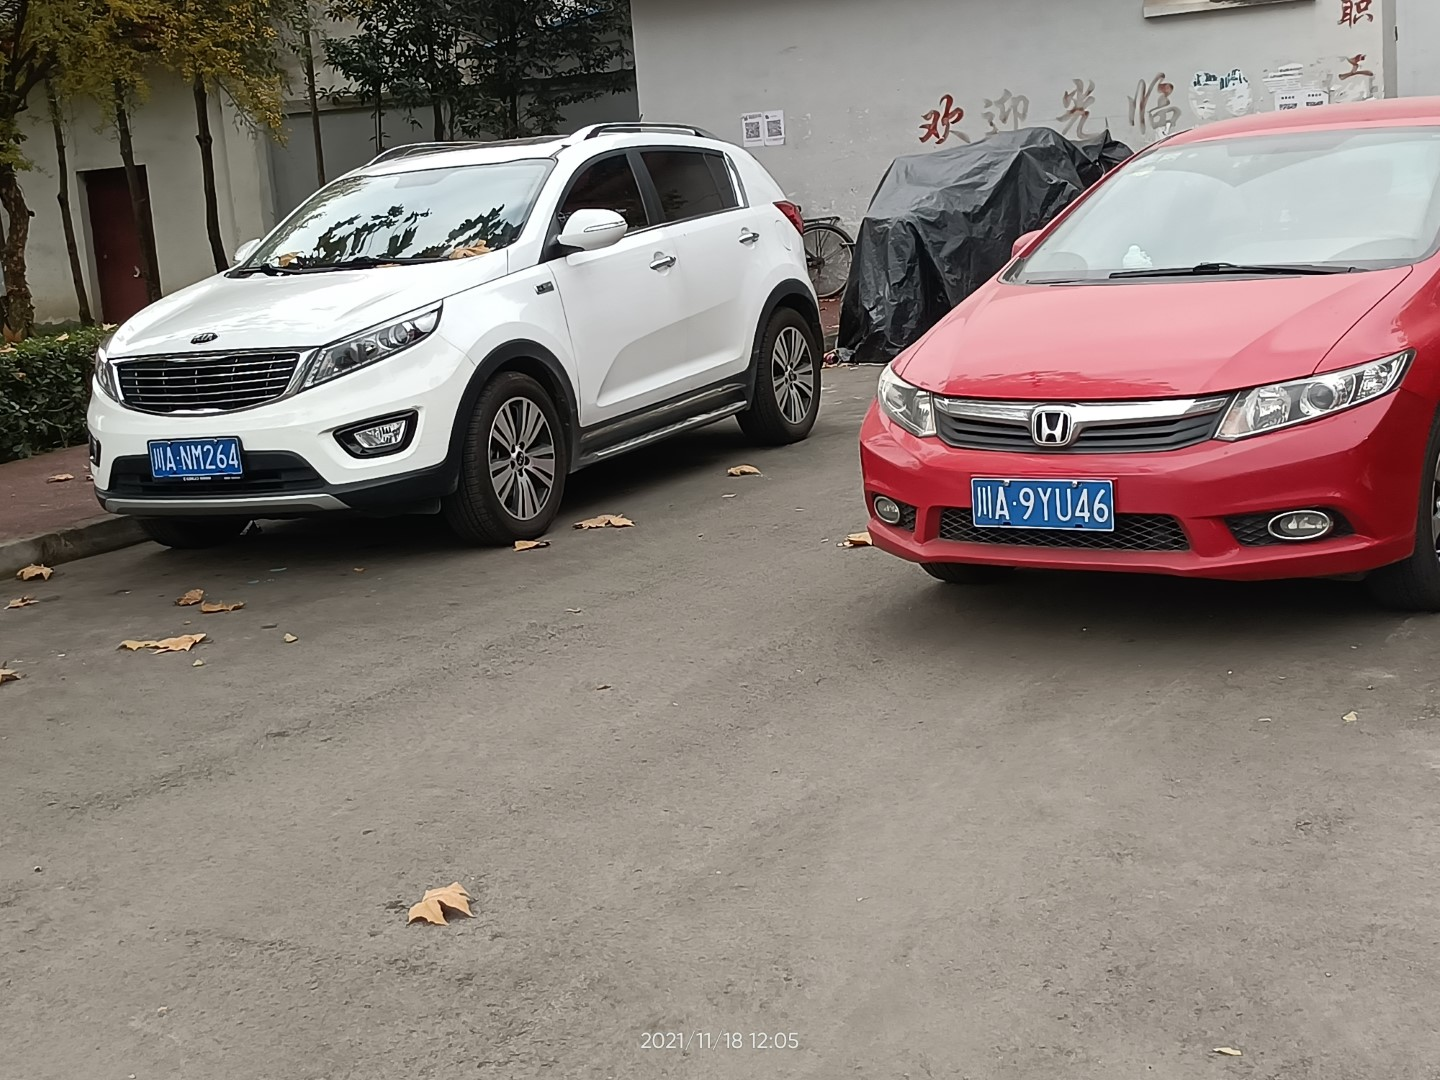plate: (971, 476, 1113, 528), (149, 438, 242, 476)
